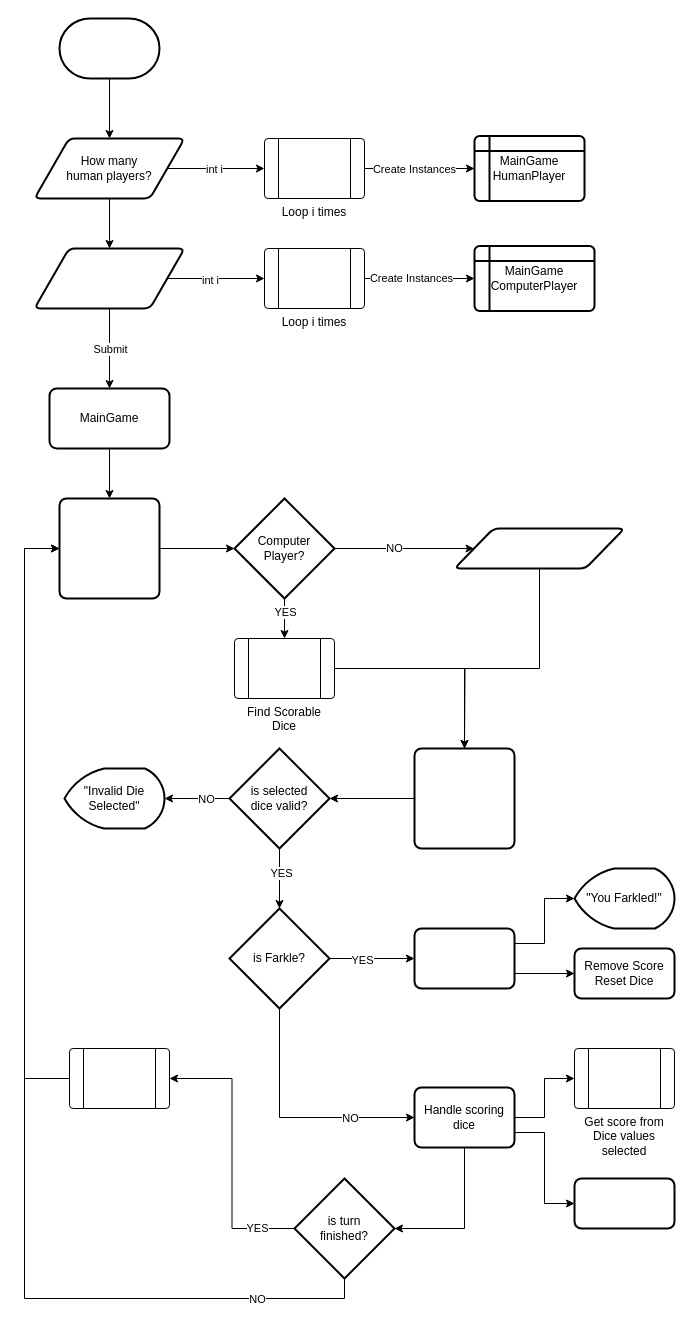
Image size: 693x1324. Some labels were removed from this diagram. Each missing label, with the centre of its shape:
Handle Farkle: [464,958]
How many computer players?: [109,278]
InitGame: [109,48]
Next Player: [119,1078]
Player Selects Dice: [539,548]
Reset Dice Remove scoring dice: [624,1203]
Roll Dice: [109,548]
Score Dice: [464,798]
